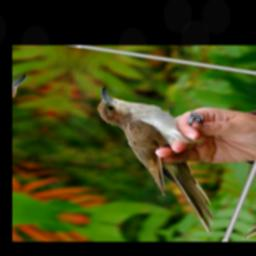Cuckoo: (49, 85, 256, 234)
